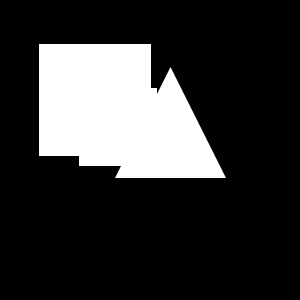circle: (39, 44, 151, 156), (79, 88, 157, 166)
triangle: (115, 67, 226, 178), (116, 97, 128, 109)
